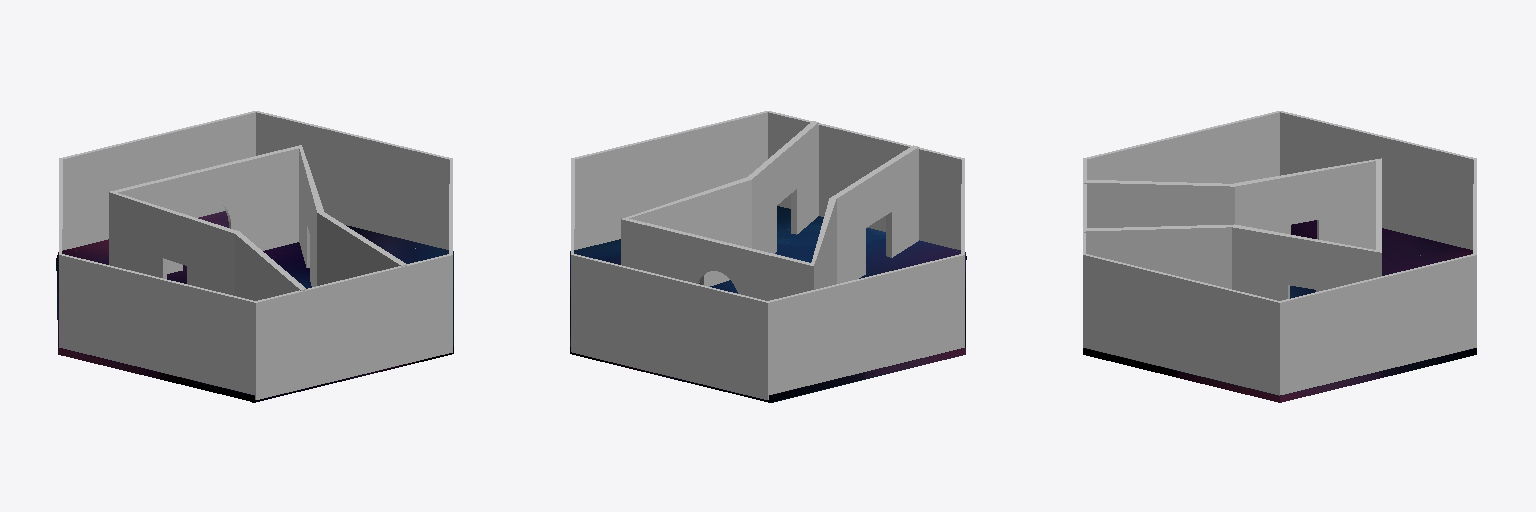
3 views of the same model, side by side, from view 1: azimuth 30°, elevation 25°; view 2: azimuth 150°, elevation 25°; view 3: azimuth 270°, elevation 25° (orthographic).
Visible parts, largest first — view 1: ParedesExternas, ParedesInternas, Piso; view 2: ParedesExternas, ParedesInternas, Piso; view 3: ParedesExternas, ParedesInternas, Piso.
Part boxes in pixels (x1,y1,x2,y2): ParedesExternas: (59,111,452,399); ParedesInternas: (109,145,406,300); Piso: (56,211,453,402); ParedesExternas: (571,111,964,399); ParedesInternas: (621,121,918,300); Piso: (570,206,966,402); ParedesExternas: (1083,111,1476,395); ParedesInternas: (1084,158,1381,300); Piso: (1083,220,1476,402).
Size of the model in its own units: 30.27 by 7.38 by 26.15.
4 materials, 1 textured.